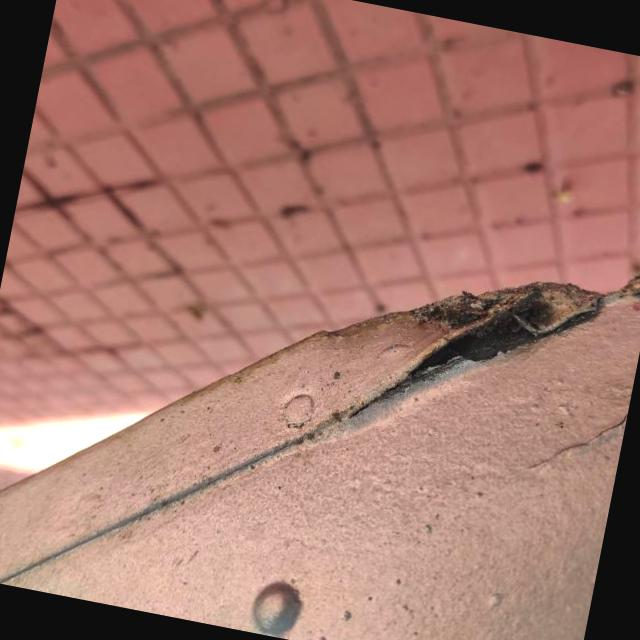crack: (362, 245, 570, 449)
